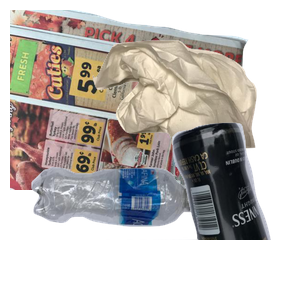glass: (106, 120, 300, 300)
paper: (10, 10, 250, 190)
plastic: (29, 165, 227, 300)
trash: (90, 38, 300, 183)
